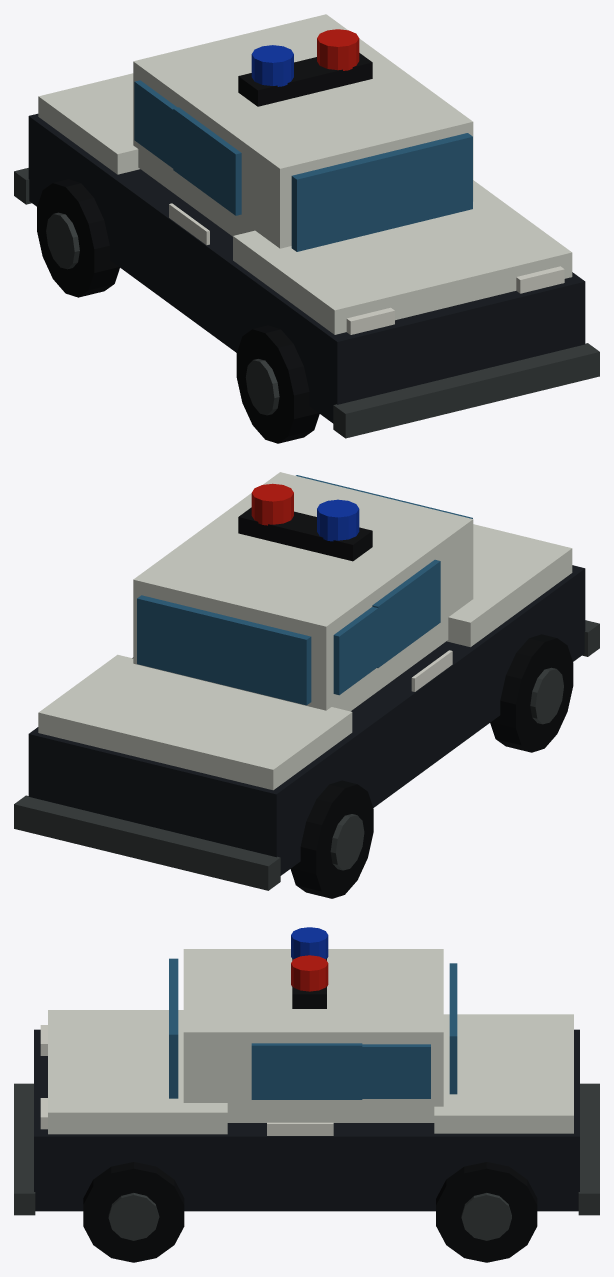
File: Vehicle_Police_Sedan.obj
3 views of the same model, one above another, from view 1: azimuth 30°, elevation 25°; view 2: azimuth 150°, elevation 25°; view 3: azimuth 270°, elevation 25° (orthographic). The views are drawn at different scales.
Parts seen in each view (by area): view 1: LowerBody, Cabin, Hood, Windshield, Tire, FrontBumper, Trunk, SideWindow, Beacon, LightbarBase, Hub, RearSideWindow (+2 smaller); view 2: LowerBody, Cabin, Trunk, RearWindow, Tire, RearBumper, Hood, SideWindow, RearSideWindow, Beacon, LightbarBase, Hub (+1 smaller); view 3: LowerBody, Cabin, Hood, Trunk, Tire, SideWindow, RearSideWindow, Hub, FrontBumper, RearBumper, Beacon, Windshield (+4 smaller).
Part boxes in pixels (x1=…): LowerBody: x1=28, y1=113, x2=585, y2=423; Cabin: x1=133, y1=14, x2=473, y2=248; Hood: x1=233, y1=180, x2=572, y2=334; Windshield: x1=291, y1=133, x2=472, y2=251; Tire: x1=37, y1=179, x2=319, y2=443; FrontBumper: x1=333, y1=343, x2=599, y2=438; Trunk: x1=38, y1=73, x2=139, y2=174; SideWindow: x1=173, y1=107, x2=241, y2=215; Beacon: x1=251, y1=29, x2=359, y2=86; LightbarBase: x1=238, y1=53, x2=372, y2=106; Hub: x1=46, y1=212, x2=279, y2=415; RearSideWindow: x1=134, y1=80, x2=177, y2=168; LowerBody: x1=28, y1=565, x2=585, y2=875; Cabin: x1=133, y1=472, x2=473, y2=711; Trunk: x1=38, y1=654, x2=352, y2=790; RearWindow: x1=137, y1=595, x2=311, y2=705; Tire: x1=290, y1=634, x2=573, y2=898; RearBumper: x1=14, y1=795, x2=280, y2=890; Hood: x1=447, y1=524, x2=572, y2=647; SideWindow: x1=372, y1=559, x2=440, y2=667; RearSideWindow: x1=333, y1=603, x2=385, y2=695; Beacon: x1=251, y1=483, x2=359, y2=541; LightbarBase: x1=238, y1=507, x2=372, y2=561; Hub: x1=330, y1=667, x2=563, y2=870; LowerBody: x1=34, y1=1029, x2=579, y2=1211; Cabin: x1=183, y1=949, x2=443, y2=1122; Hood: x1=48, y1=1010, x2=227, y2=1134; Trunk: x1=434, y1=1014, x2=573, y2=1133; Tire: x1=83, y1=1162, x2=537, y2=1262; SideWindow: x1=251, y1=1043, x2=362, y2=1099; RearSideWindow: x1=348, y1=1044, x2=430, y2=1098; Hub: x1=108, y1=1193, x2=511, y2=1240; FrontBumper: x1=14, y1=1083, x2=35, y2=1215; RearBumper: x1=578, y1=1083, x2=599, y2=1215; Beacon: x1=291, y1=927, x2=328, y2=991; Windshield: x1=169, y1=958, x2=178, y2=1098.
Size of the model in its own units: 2.22 by 2.1 by 4.4.
